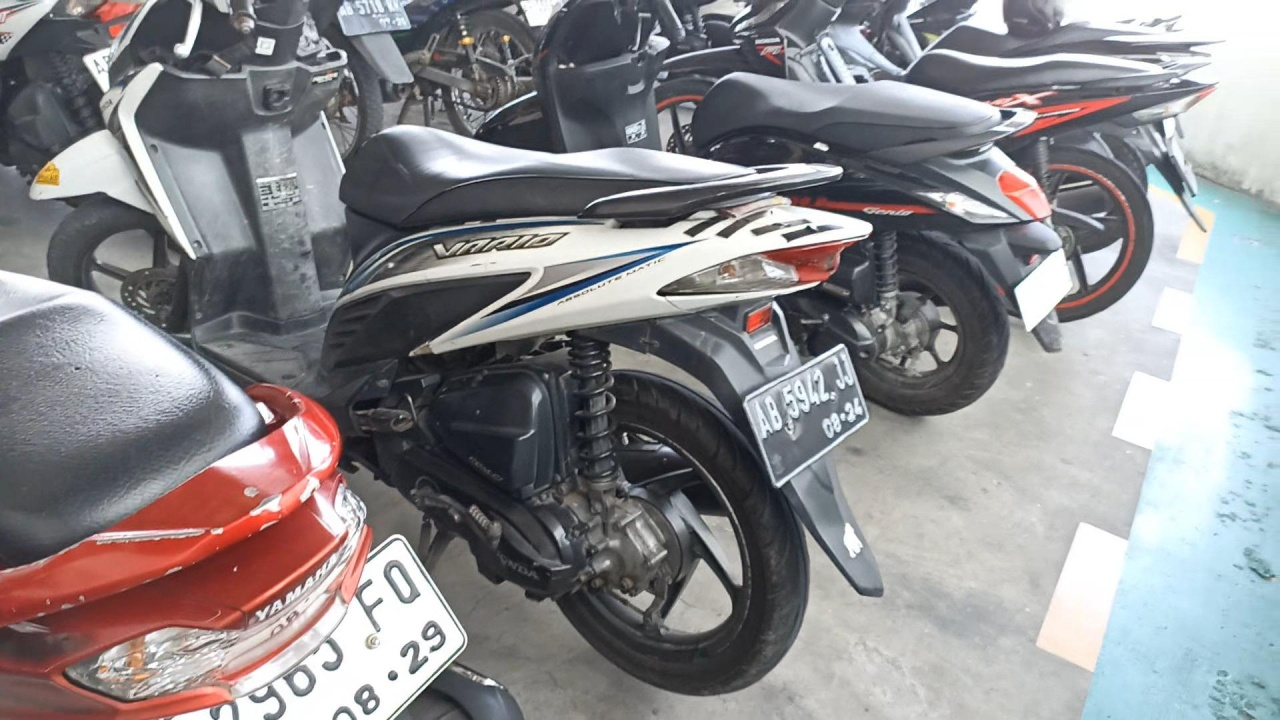plate: (745, 345, 872, 486)
